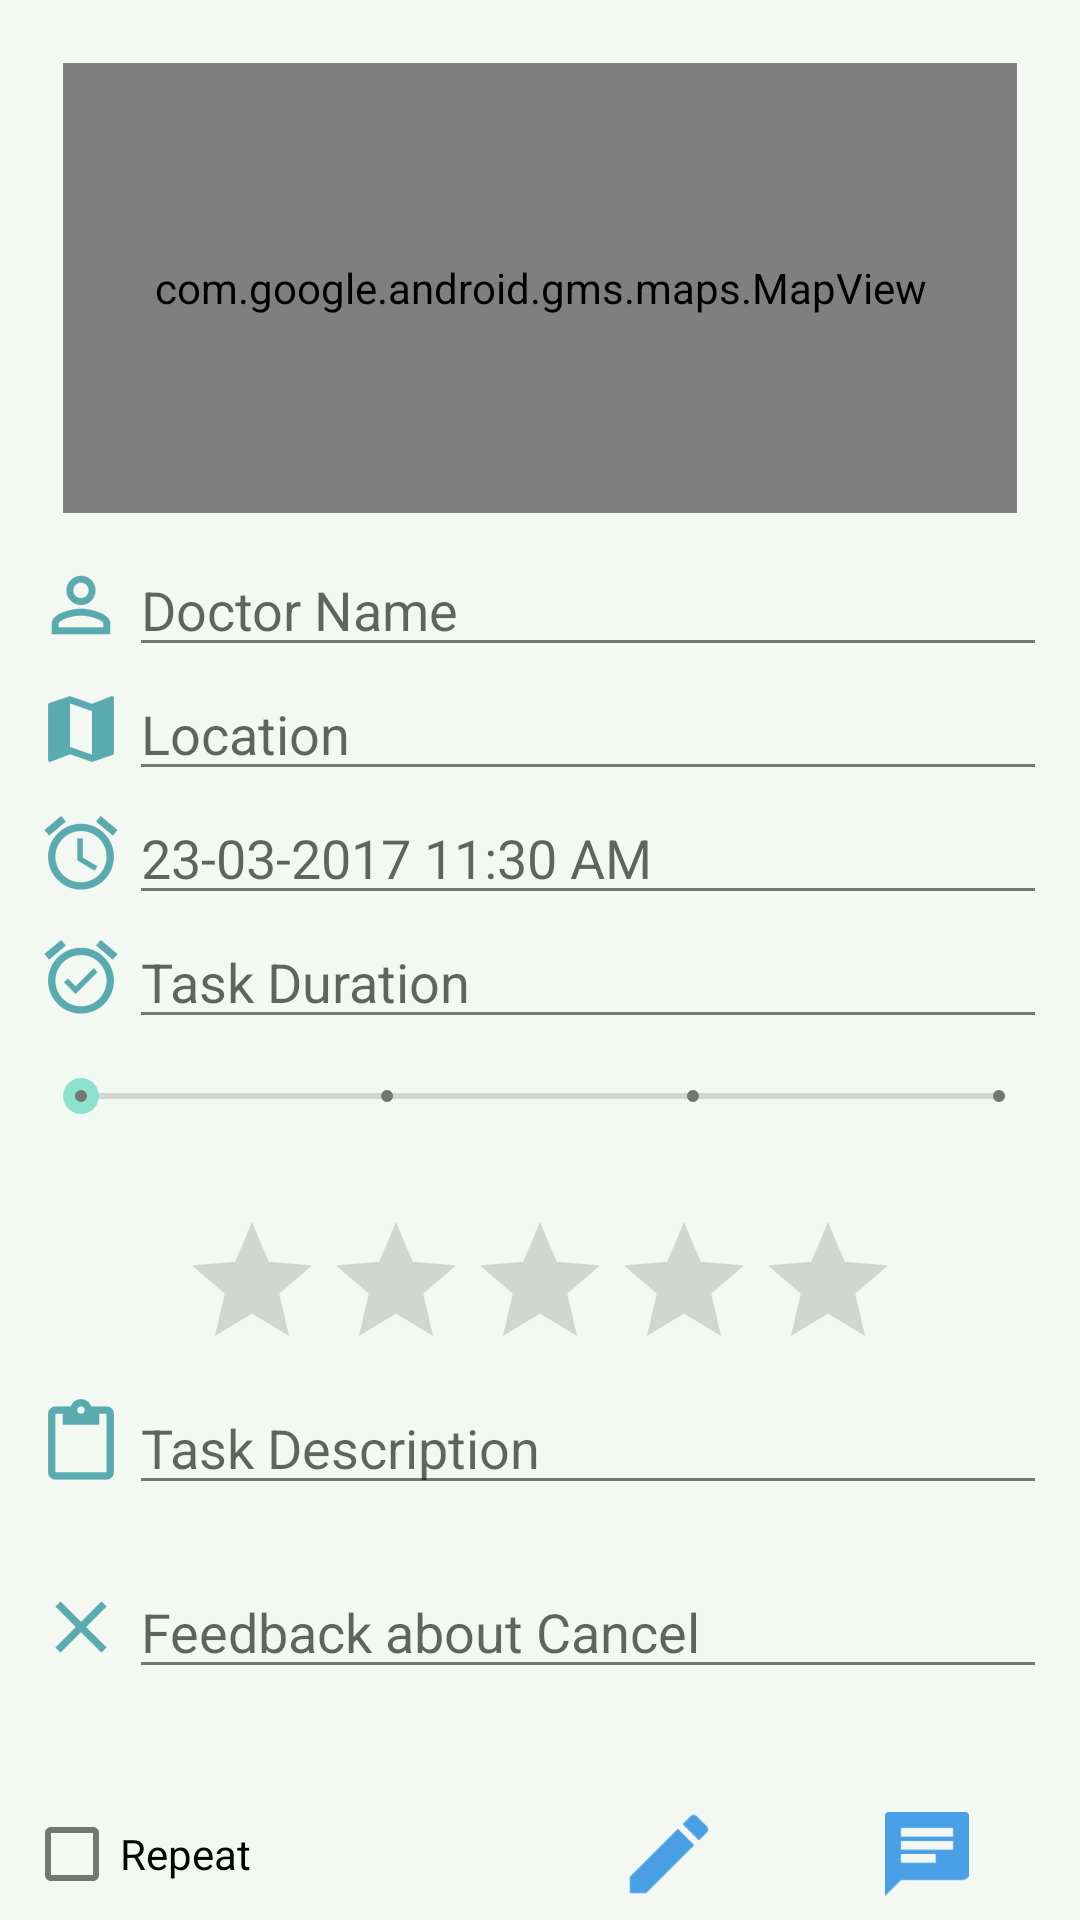

Locate icon controls on the screen. Image size 1080px×1920px, boxes as rect(x1, y1, x2, y2).
edit: rect(629, 1814, 709, 1894)
person: rect(51, 575, 111, 635)
reasonforcancel: rect(55, 1601, 107, 1653)
time: rect(44, 816, 118, 890)
timeduration: rect(44, 940, 118, 1014)
